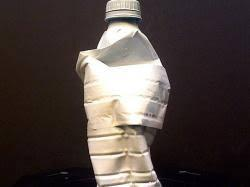plastic: (73, 0, 176, 187)
